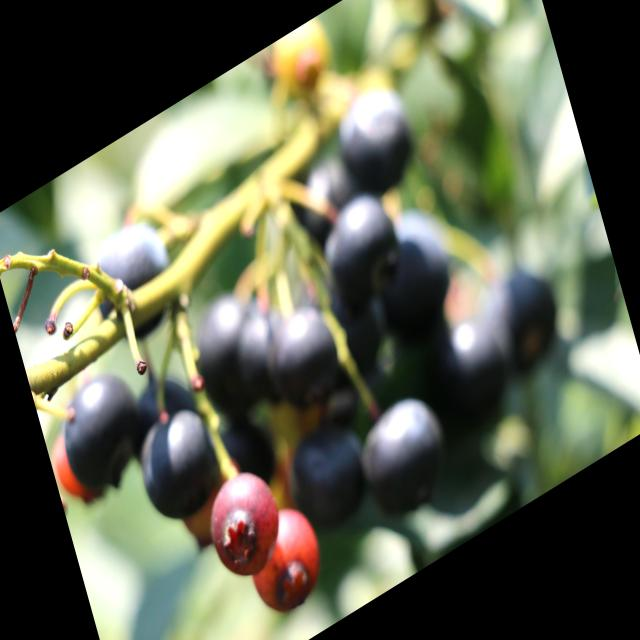blueberry: (344, 371, 465, 538), (46, 350, 158, 518), (411, 294, 521, 458), (78, 200, 186, 366), (178, 273, 281, 443), (363, 196, 464, 356), (308, 174, 411, 327), (276, 402, 378, 552), (326, 66, 426, 216), (128, 391, 228, 539), (306, 254, 402, 406), (476, 246, 572, 395), (254, 285, 349, 422), (280, 135, 375, 262), (115, 353, 208, 478), (204, 400, 285, 511), (228, 295, 300, 406)
blueberry-halfripe: (237, 494, 332, 633), (199, 460, 289, 591)
